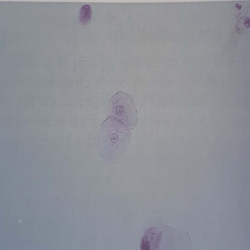Epithelial: (93, 88, 140, 165)
